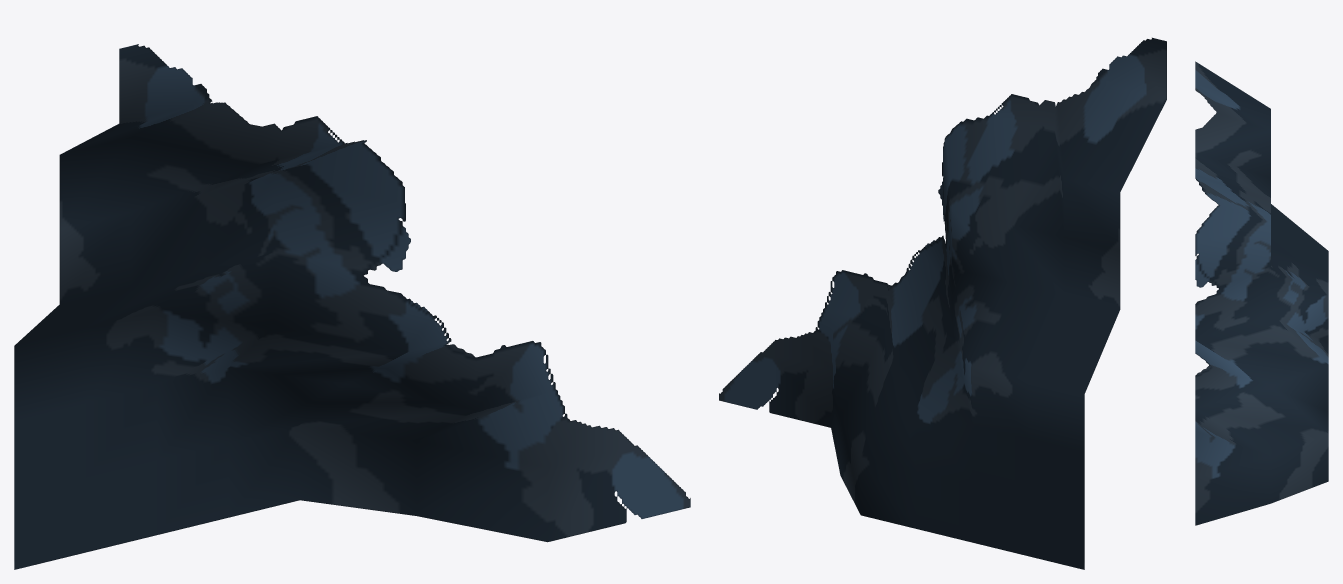
File: Mountainside.fbx
3 views of the same model, side by side, from view 1: azimuth 30°, elevation 25°; view 2: azimuth 150°, elevation 25°; view 3: azimuth 270°, elevation 25° (orthographic). The views are drawn at different scales.
Parts seen in each view (by area): view 1: Plane; view 2: Plane; view 3: Plane.
Part boxes in pixels (x1,y1,x2,y2): Plane: (14, 44, 690, 569); Plane: (719, 37, 1166, 569); Plane: (1195, 61, 1328, 525).
Bounding box in the file's own units: 800 × 800 × 254.
1 material, 1 textured.
